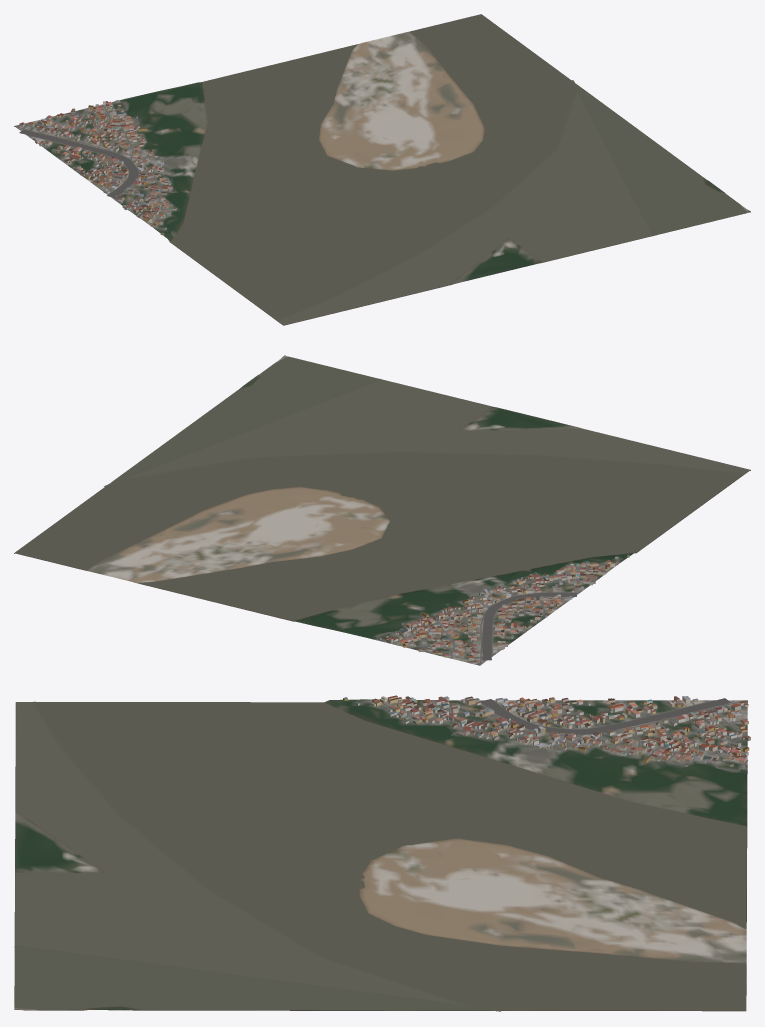
3 views of the same model, one above another, from view 1: azimuth 30°, elevation 25°; view 2: azimuth 150°, elevation 25°; view 3: azimuth 270°, elevation 25° (orthographic). The views are drawn at different scales.
Parts seen in each view (by area): view 1: water, ground, buildings, roads; view 2: water, ground, buildings, roads; view 3: water, ground, buildings, roads.
Part boxes in pixels (x1,y1,x2,y2): water: (171, 14, 746, 325); ground: (14, 14, 750, 325); buildings: (19, 100, 176, 235); roads: (14, 102, 177, 228); water: (15, 356, 749, 620); ground: (14, 355, 750, 665); buildings: (377, 554, 629, 663); roads: (376, 559, 618, 665); water: (14, 701, 746, 1011); ground: (14, 699, 747, 1011); buildings: (343, 695, 750, 768); roads: (360, 698, 747, 771).
Bounding box in the file's own units: 1412 × 22.98 × 1411.
